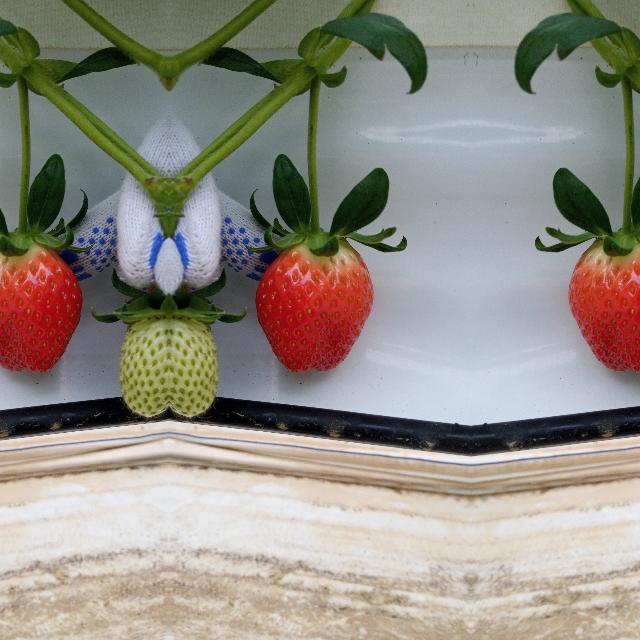Health_100: (253, 236, 373, 374), (0, 236, 83, 373), (568, 236, 640, 373)
Health_25: (168, 306, 226, 430), (110, 306, 168, 430)
